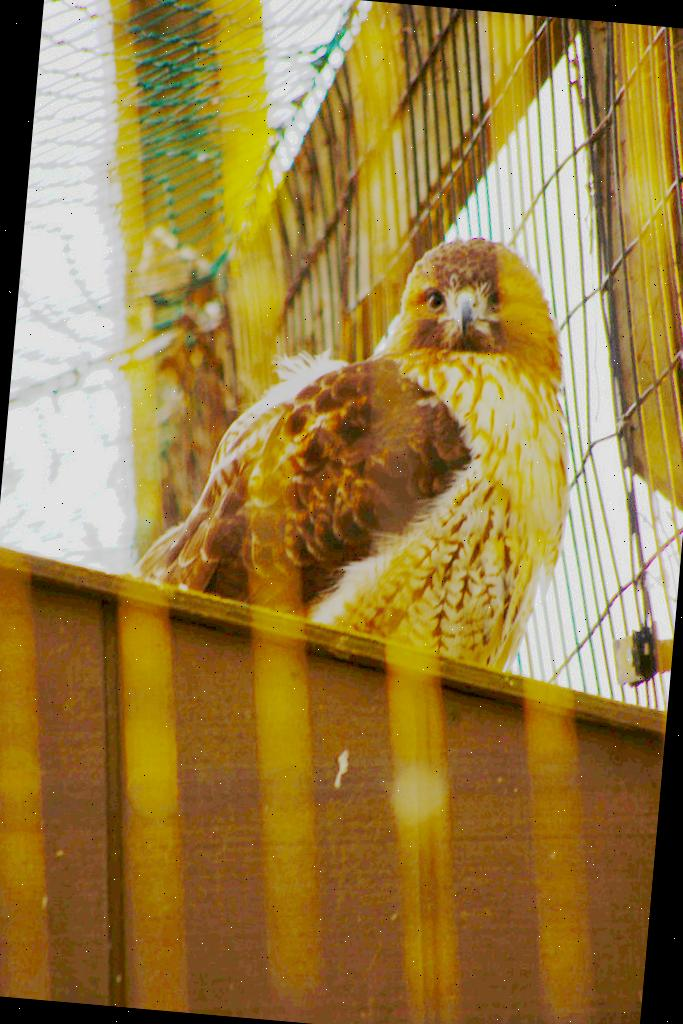Owl: (81, 187, 608, 686)
